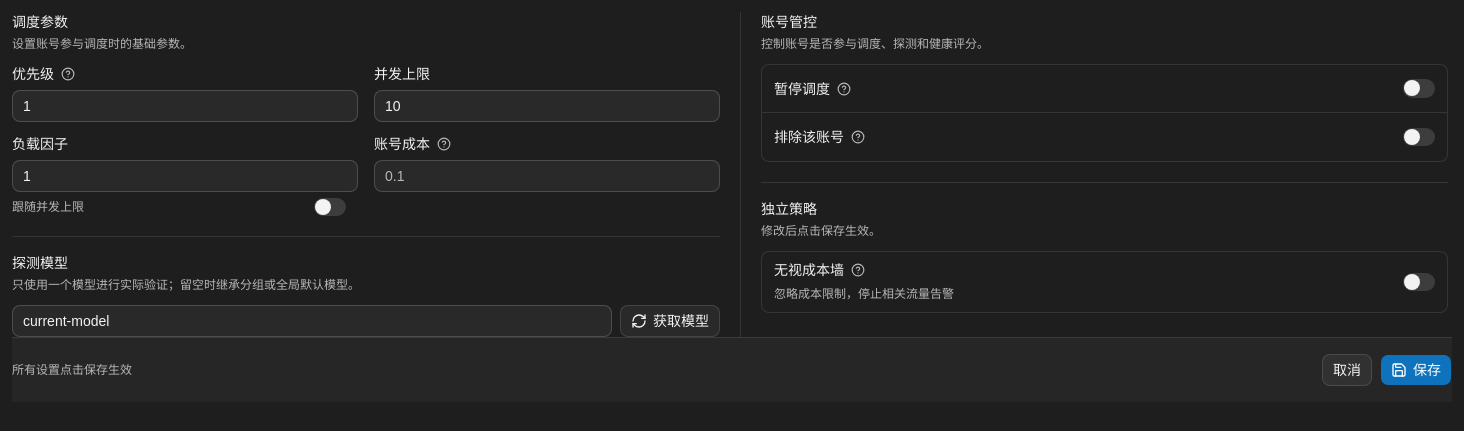
模型读取失败保留手动输入，点击重试后才重新读取
Click the button "获取模型" at (670, 321), box [620,305,720,337]
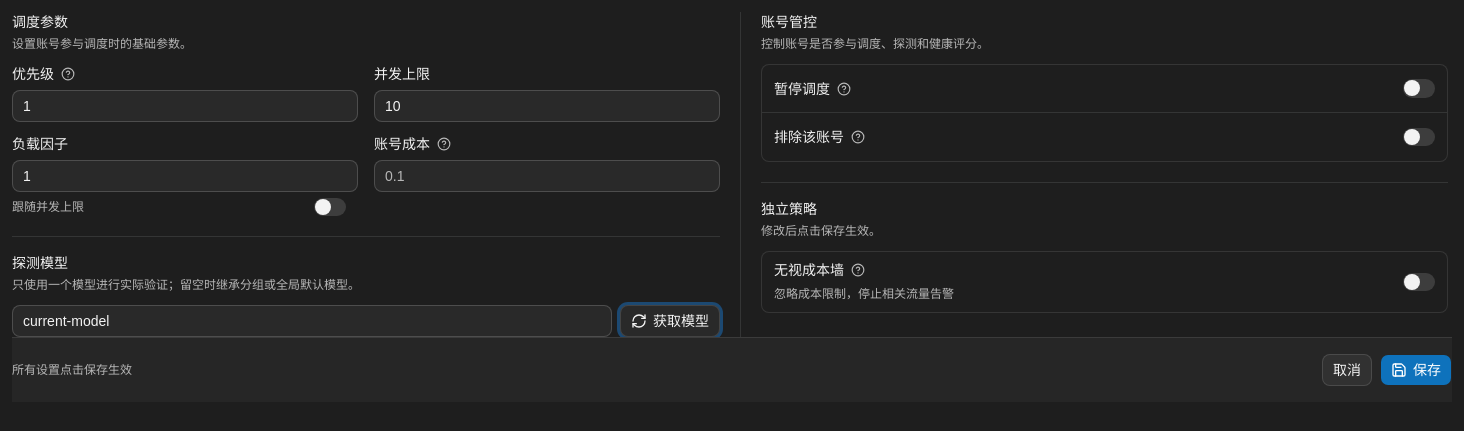
Expected: the field named "探测模型" holds "current-model", [12,305,612,337]
Click the button "获取模型" at (670, 321), box [620,305,720,337]
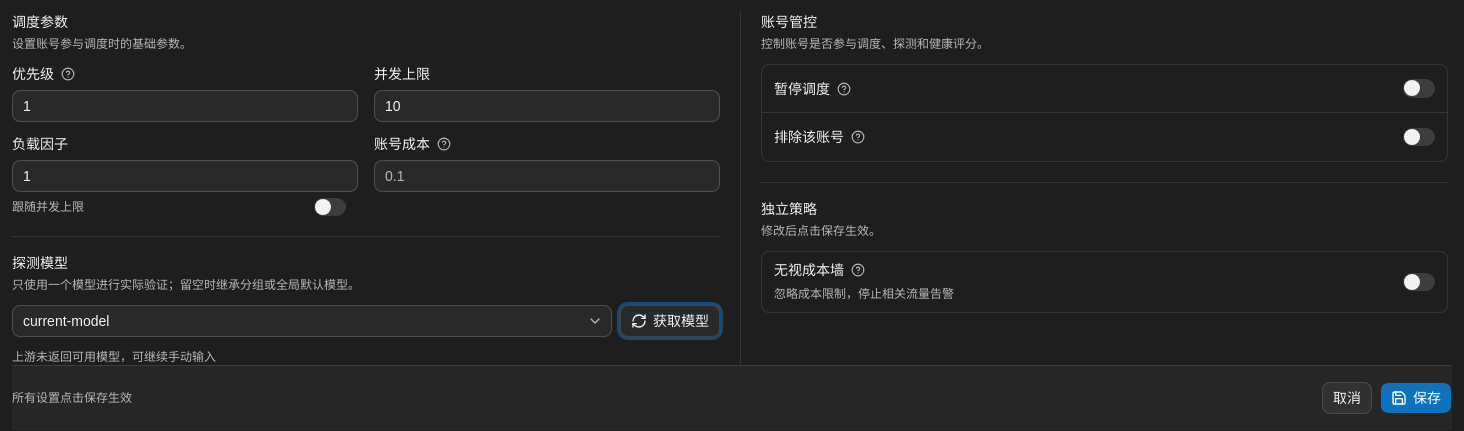
Now the dropdown named "选择探测模型" shows "current-model", box [12,305,612,337]
Now the message shows "上游未返回可用模型", box [12,350,216,364]
